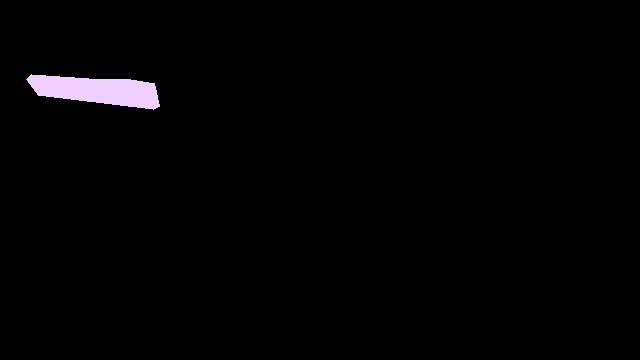Train: (26, 74, 160, 109)
